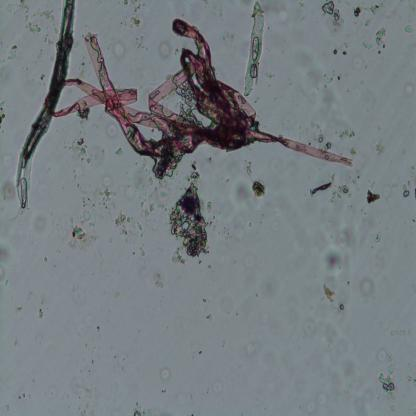Background material: (65, 179, 162, 256), (163, 180, 217, 274), (296, 47, 338, 123), (321, 228, 354, 317), (18, 1, 58, 49), (302, 119, 358, 151), (374, 352, 400, 408), (305, 173, 354, 201), (351, 0, 389, 25), (228, 180, 258, 211), (122, 0, 150, 26), (74, 138, 97, 168), (0, 234, 13, 286), (361, 27, 388, 50), (364, 177, 384, 205), (322, 2, 344, 27), (250, 176, 274, 198), (2, 179, 17, 203), (360, 275, 374, 300), (244, 339, 260, 360), (156, 366, 172, 386), (112, 37, 127, 58), (0, 99, 10, 129), (132, 402, 151, 416), (401, 184, 416, 201), (374, 140, 388, 158), (388, 328, 412, 338), (158, 42, 173, 56), (105, 124, 119, 139), (154, 274, 166, 290), (402, 82, 414, 97), (36, 307, 46, 321), (116, 146, 126, 159), (372, 230, 381, 244), (402, 25, 416, 33), (245, 162, 253, 176)
Cellulose filter fibre: (13, 0, 76, 210), (243, 2, 267, 96)
Cotton: (64, 17, 364, 181)
